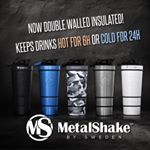cups: (118, 63, 147, 118), (62, 63, 90, 119), (36, 62, 62, 120), (8, 62, 34, 118), (92, 62, 117, 118)
